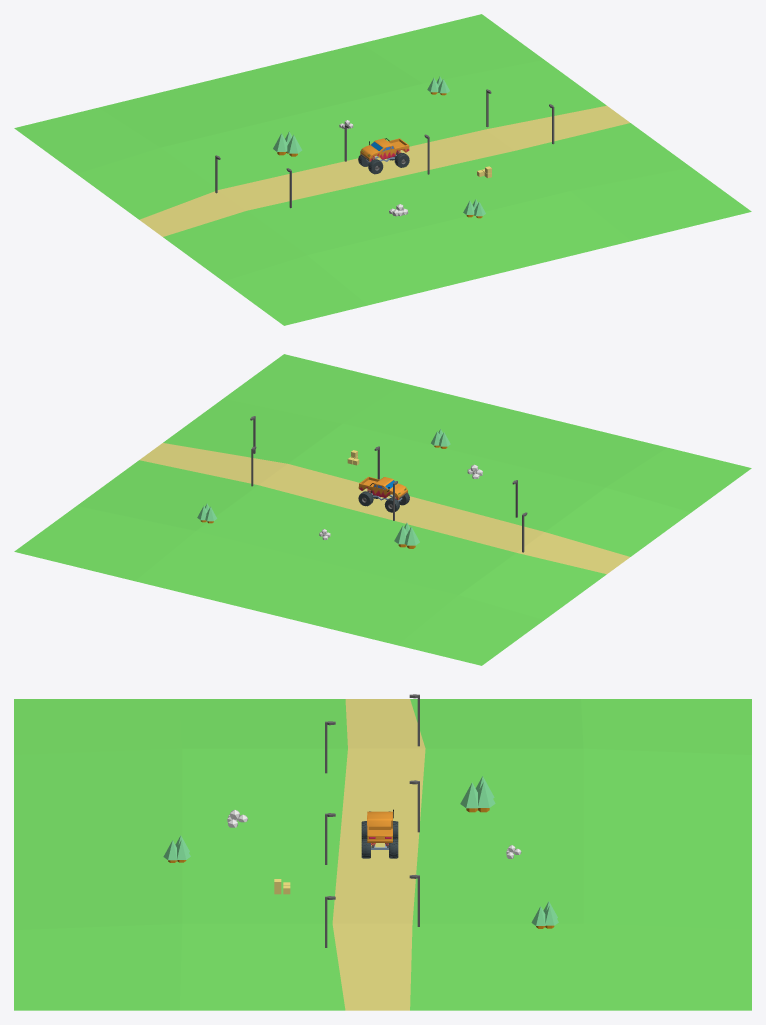
File: MONSTERTRUCKwithoulightstreetlamb.glb
The picture shows the model from 3 angles, top to bottom: view 1: azimuth 30°, elevation 25°; view 2: azimuth 150°, elevation 25°; view 3: azimuth 270°, elevation 25°; orthographic projection. The views are drawn at different scales.
Parts seen in each view (by area): view 1: Plane, Cube; view 2: Plane, Cube; view 3: Plane, Cube.
Boxes of the visible parts, <box> form: Plane: <box>14,14,751,325</box>; Cube: <box>360,138,409,161</box>; Plane: <box>14,354,751,665</box>; Cube: <box>358,476,407,500</box>; Plane: <box>14,699,751,1010</box>; Cube: <box>367,811,392,842</box>.
Bounding box in the file's own units: 44.04 × 3.78 × 44.04.
Materials: 20 (1 with a texture image).
